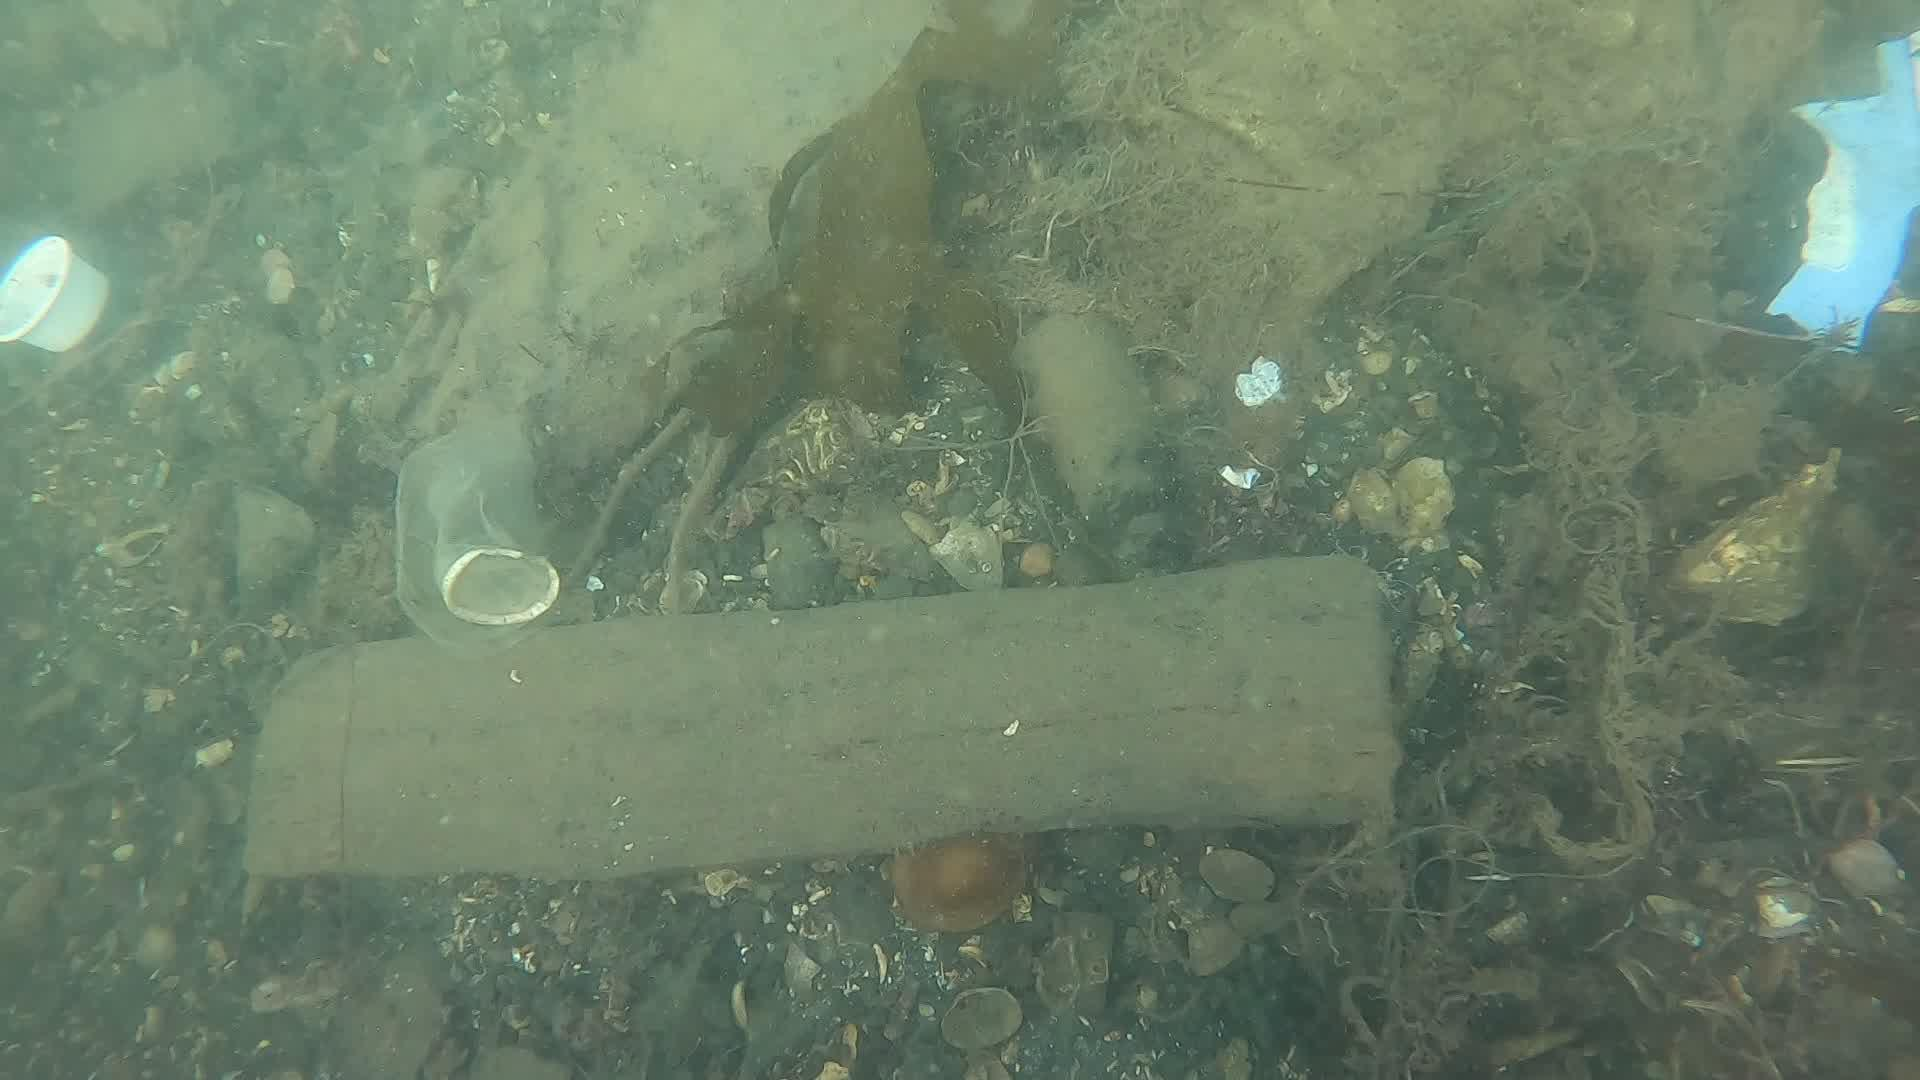wood: (237, 553, 1410, 890)
